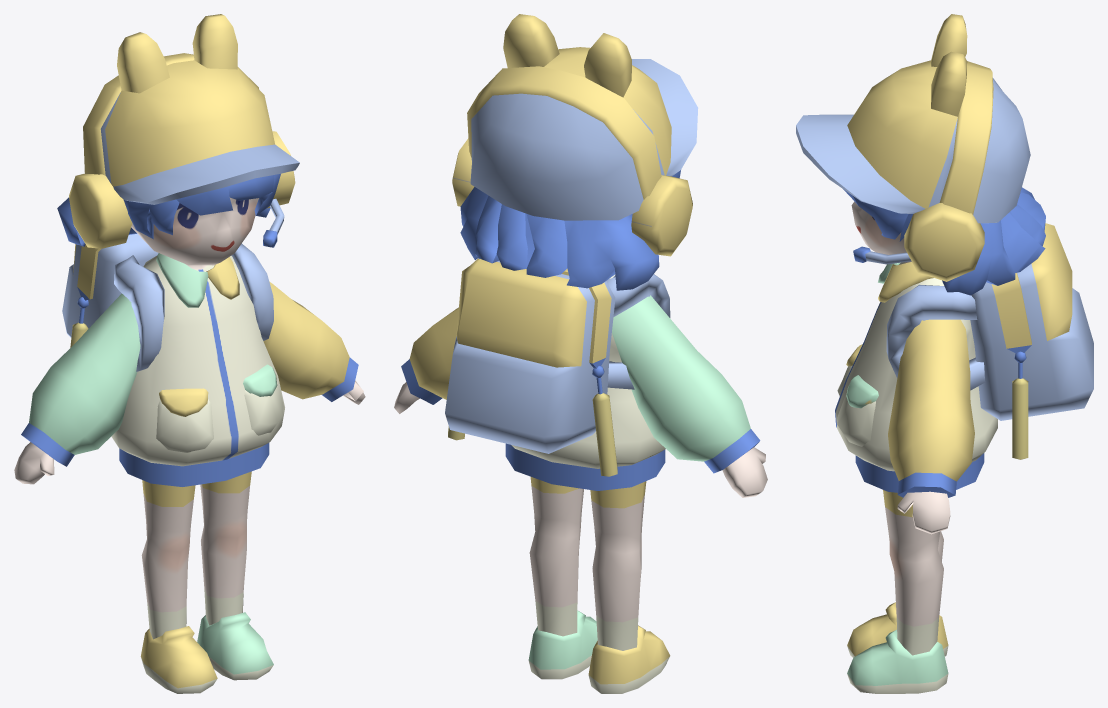
File: miyu_geo_ONLY.fbx
The picture shows the model from 3 angles, left to right: view 1: azimuth 30°, elevation 25°; view 2: azimuth 150°, elevation 25°; view 3: azimuth 270°, elevation 25°; orthographic projection. The views are drawn at different scales.
Visible parts, largest first — view 1: body, hat, backpack; view 2: hat, body, backpack, glowstick_R; view 3: body, hat, backpack, glowstick_L.
Part boxes in pixels (bbox=[...]): body: bbox=[14, 197, 365, 693]; hat: bbox=[57, 14, 299, 248]; backpack: bbox=[62, 234, 158, 337]; hat: bbox=[452, 14, 698, 290]; body: bbox=[394, 274, 767, 693]; backpack: bbox=[445, 258, 615, 453]; glowstick_R: bbox=[592, 366, 617, 476]; body: bbox=[835, 201, 997, 693]; hat: bbox=[796, 14, 1045, 295]; backpack: bbox=[970, 223, 1093, 420]; glowstick_L: bbox=[1012, 351, 1028, 459].
Bounding box in the file's own units: 71.82 × 124 × 52.79.
2 materials, 1 textured.
